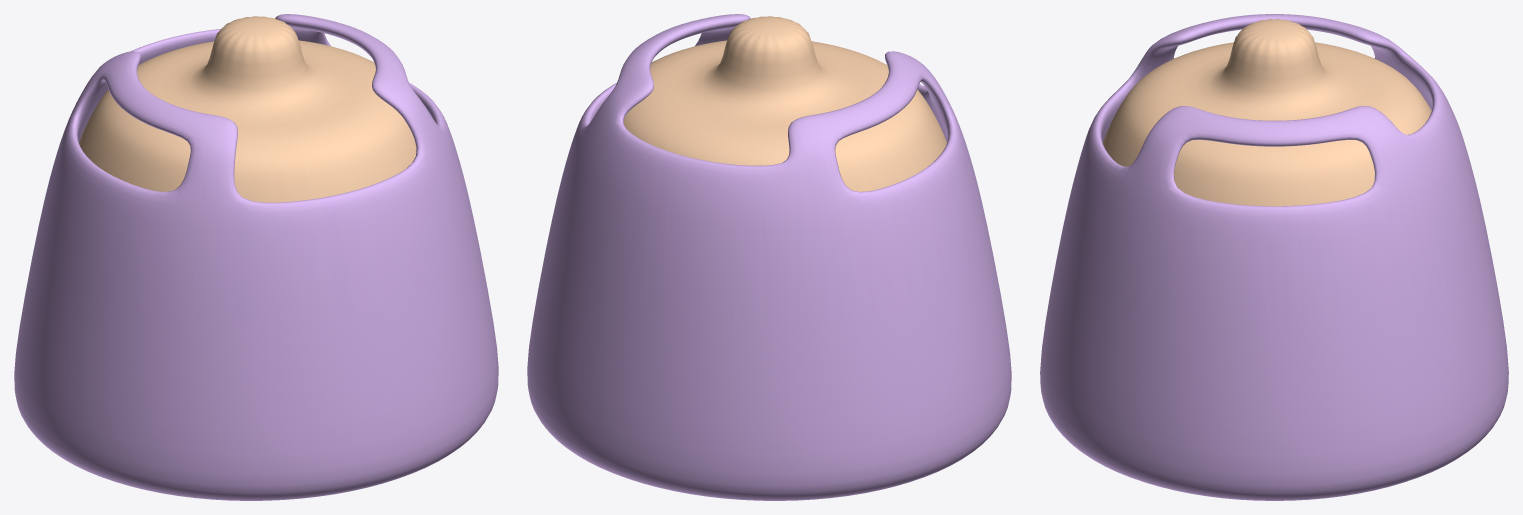
The model's file is woman body.fbx.
3 renders of one model, left to right at view 1: azimuth 30°, elevation 25°; view 2: azimuth 150°, elevation 25°; view 3: azimuth 270°, elevation 25°, orthographic.
Parts seen in each view (by area): view 1: woman_body; view 2: woman_body; view 3: woman_body.
Part boxes in pixels (left/top/right/bottom): woman_body: left=14, top=14, right=498, bottom=500; woman_body: left=527, top=14, right=1011, bottom=500; woman_body: left=1040, top=14, right=1508, bottom=500.
Bounding box in the file's own units: 62.16 × 54.42 × 60.37.
2 materials, 2 textured.
